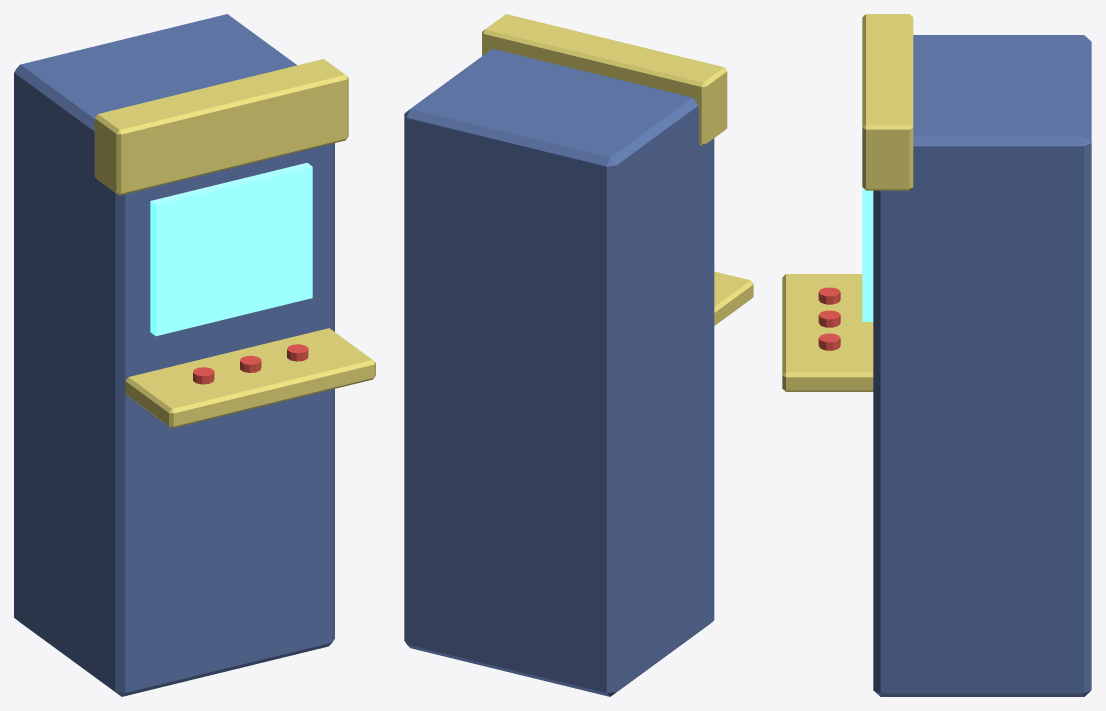
Rendered from arcade_cabinet.glb.
The picture shows the model from 3 angles, left to right: view 1: azimuth 30°, elevation 25°; view 2: azimuth 150°, elevation 25°; view 3: azimuth 270°, elevation 25°; orthographic projection. The views are drawn at different scales.
Parts seen in each view (by area): view 1: arcade_cabinet; view 2: arcade_cabinet; view 3: arcade_cabinet.
Part boxes in pixels (box(x1,y1,x2,y2)): arcade_cabinet: box(14, 14, 375, 696); arcade_cabinet: box(404, 14, 753, 696); arcade_cabinet: box(782, 14, 1091, 696).
Size of the model in its own units: 0.74 by 1.75 by 0.85.
